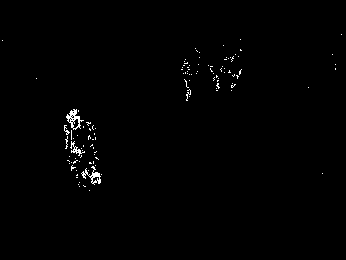person: (63, 108, 103, 191), (180, 53, 199, 102), (208, 54, 225, 91), (228, 55, 244, 94)
